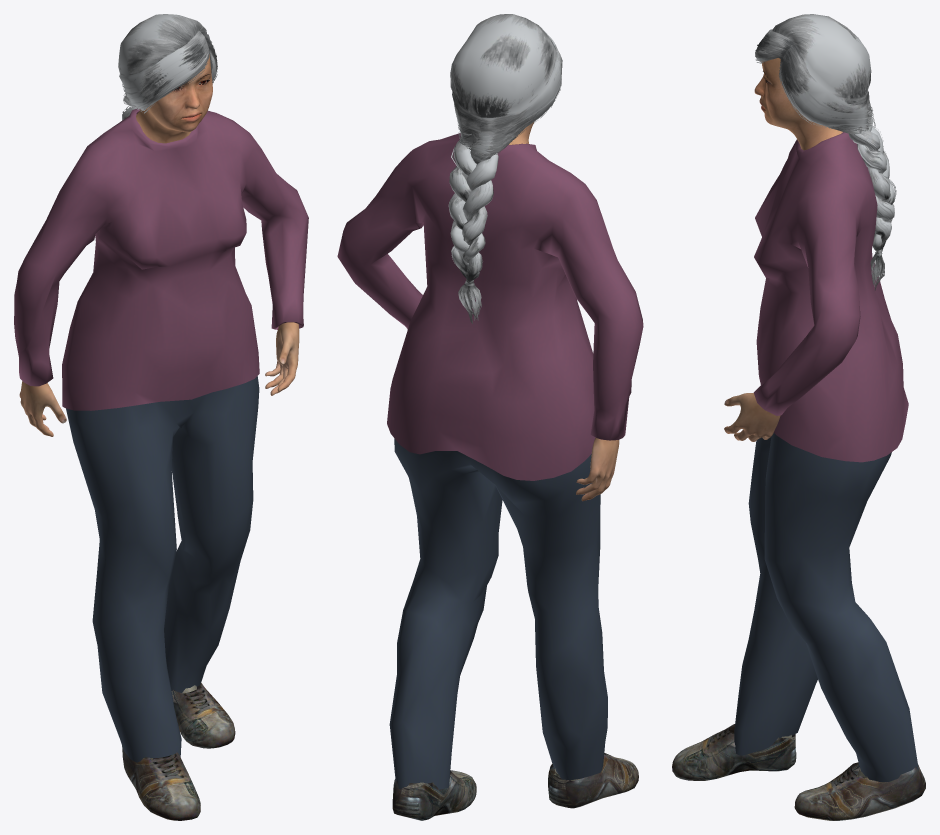
The model's file is nora-v415.glb.
The picture shows the model from 3 angles, left to right: view 1: azimuth 30°, elevation 25°; view 2: azimuth 150°, elevation 25°; view 3: azimuth 270°, elevation 25°; orthographic projection. The views are drawn at different scales.
Parts seen in each view (by area): view 1: male_casualsuit02, braid01, shoes02, Nora | anatomical body; view 2: male_casualsuit02, braid01, shoes02, Nora | anatomical body; view 3: male_casualsuit02, braid01, shoes02, Nora | anatomical body.
Boxes of the visible parts, bbox=[...] form: male_casualsuit02: bbox=[14, 108, 308, 762]; braid01: bbox=[118, 14, 217, 120]; shoes02: bbox=[122, 682, 235, 820]; Nora | anatomical body: bbox=[19, 54, 299, 436]; male_casualsuit02: bbox=[337, 133, 643, 789]; braid01: bbox=[448, 14, 562, 323]; shoes02: bbox=[392, 753, 638, 820]; Nora | anatomical body: bbox=[509, 122, 619, 501]; male_casualsuit02: bbox=[734, 132, 918, 781]; braid01: bbox=[755, 14, 896, 290]; shoes02: bbox=[672, 724, 925, 820]; Nora | anatomical body: bbox=[724, 58, 842, 441].
Size of the model in its own units: 0.6275 by 1.58 by 0.4674.
Materials: 10 (10 with a texture image).
